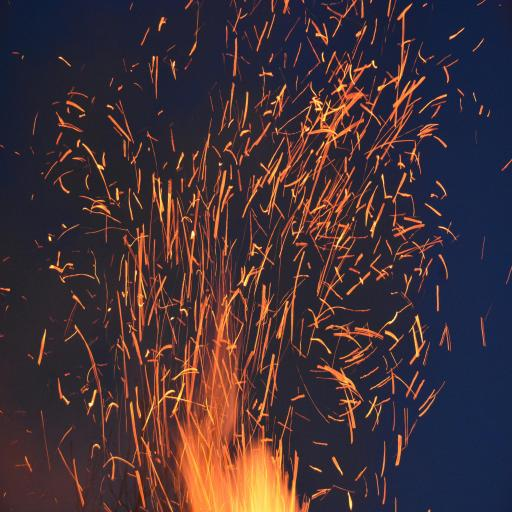campfire: (2, 0, 511, 512)
